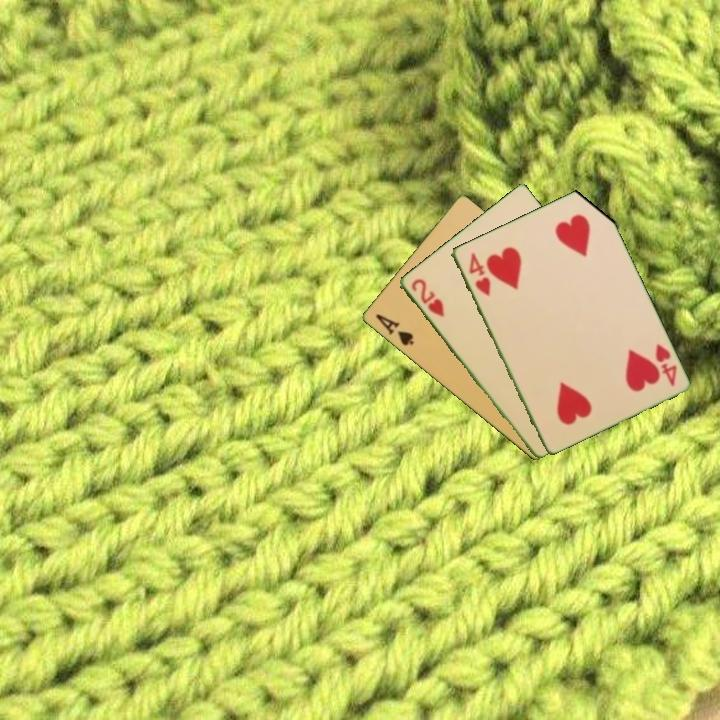2h: (407, 275, 447, 320)
4h: (465, 249, 493, 299), (651, 340, 679, 389)
As: (372, 310, 417, 349)
